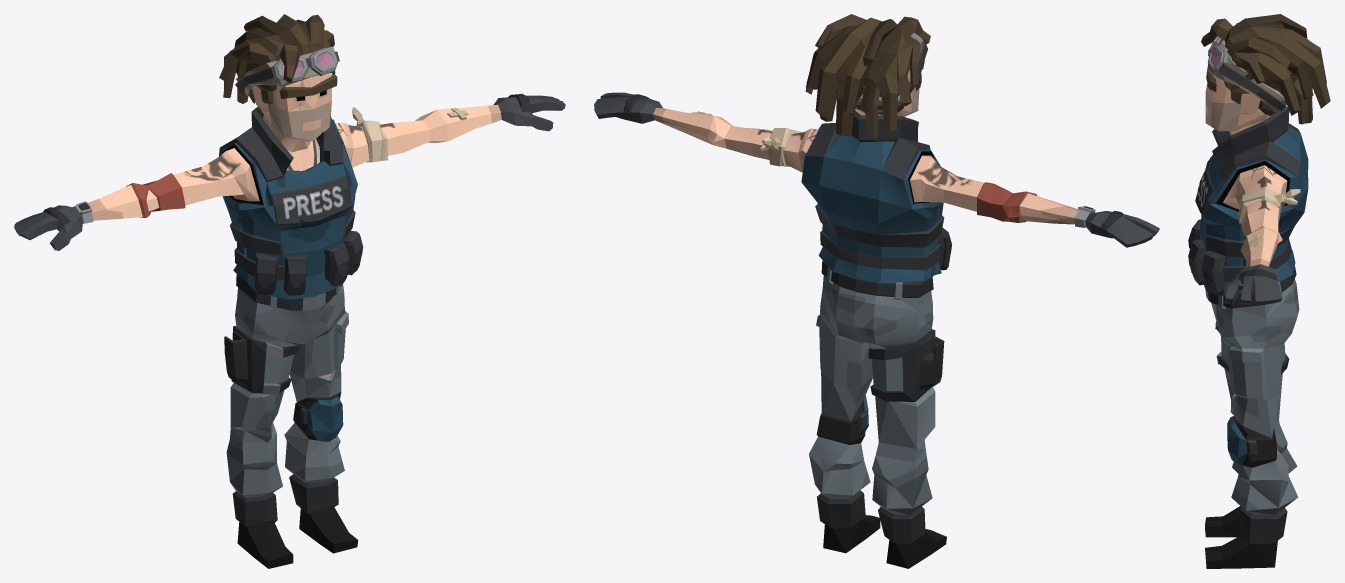
The model's file is boy.FBX.
The picture shows the model from 3 angles, left to right: view 1: azimuth 30°, elevation 25°; view 2: azimuth 150°, elevation 25°; view 3: azimuth 270°, elevation 25°; orthographic projection. The views are drawn at different scales.
Parts seen in each view (by area): view 1: SM_Chr_Press_Male_01, SM_Chr_Attach_Mechanic_Female_Hair_01; view 2: SM_Chr_Press_Male_01, SM_Chr_Attach_Mechanic_Female_Hair_01; view 3: SM_Chr_Press_Male_01, SM_Chr_Attach_Mechanic_Female_Hair_01.
Part boxes in pixels (box(x1,y1,x2,y2)): SM_Chr_Press_Male_01: box(14, 73, 565, 568); SM_Chr_Attach_Mechanic_Female_Hair_01: box(219, 14, 339, 103); SM_Chr_Press_Male_01: box(594, 61, 1159, 568); SM_Chr_Attach_Mechanic_Female_Hair_01: box(805, 14, 930, 138); SM_Chr_Press_Male_01: box(1188, 66, 1308, 568); SM_Chr_Attach_Mechanic_Female_Hair_01: box(1201, 14, 1330, 124).
Bounding box in the file's own units: 205 × 187 × 45.97.
2 materials, 2 textured.
